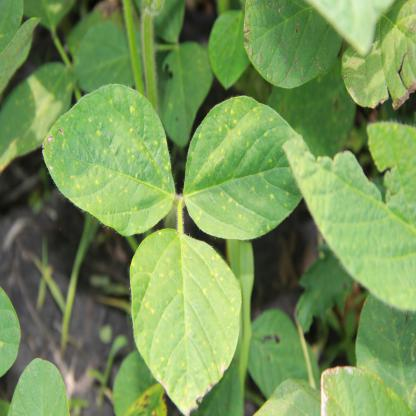Soybean leaf: (127, 228, 243, 416), (40, 82, 178, 239), (184, 94, 315, 243)
